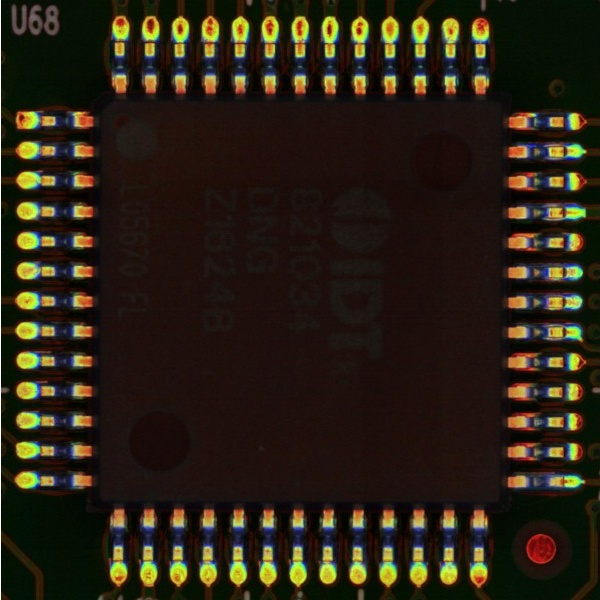Bad_podu: (556, 147, 573, 157), (555, 208, 572, 217), (556, 268, 573, 277), (556, 478, 571, 487), (554, 329, 572, 336), (556, 300, 573, 307)
